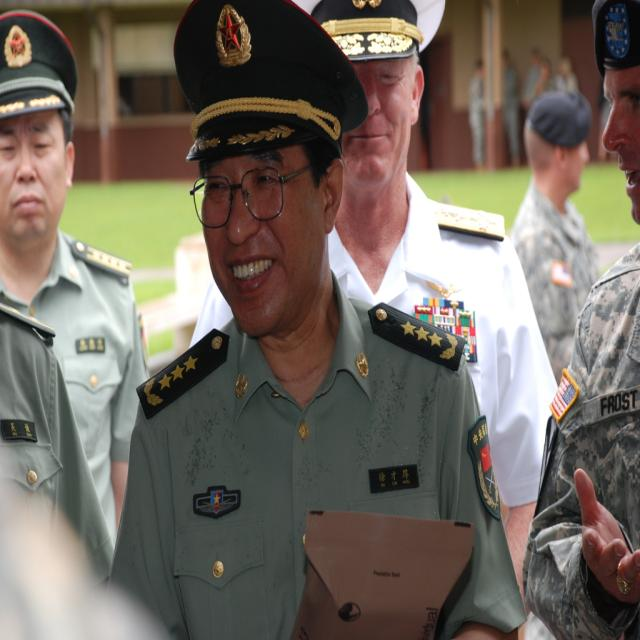Hat: (170, 0, 367, 158), (297, 0, 447, 63), (0, 3, 80, 118)
